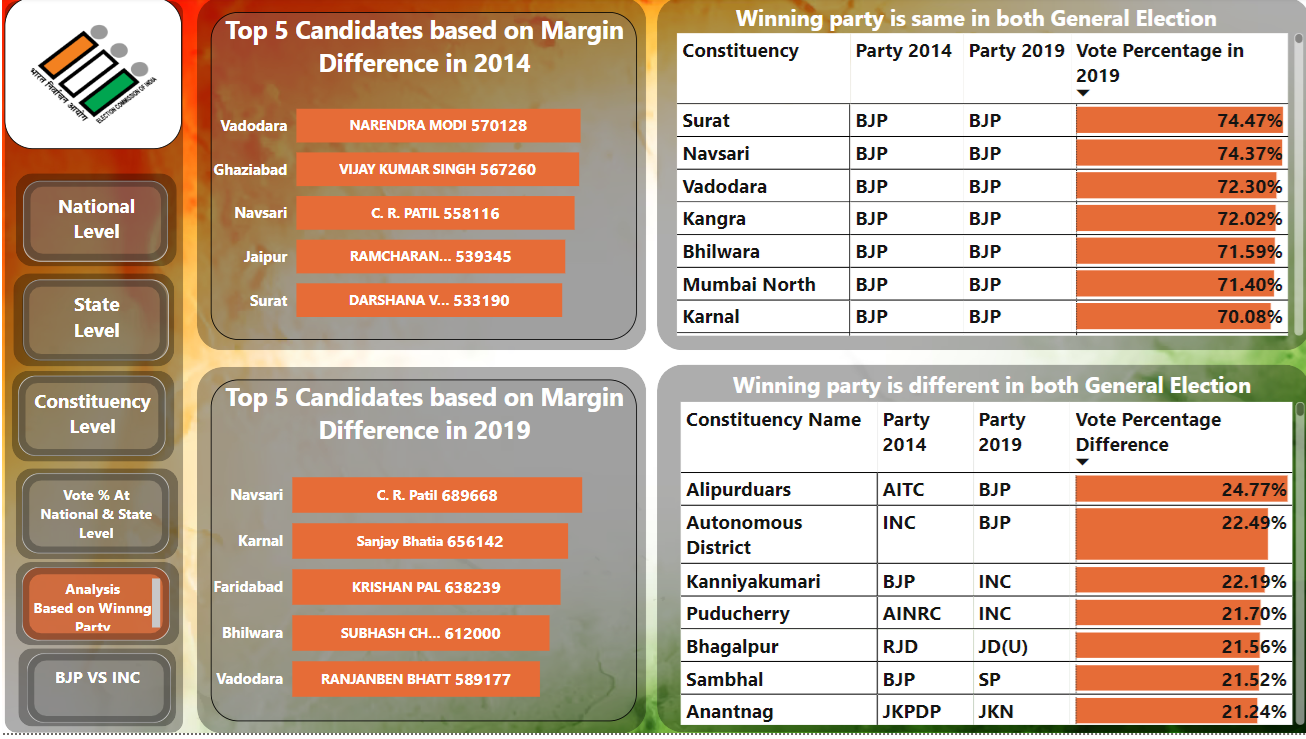

The page's visual inventory and layout, read from the dashboard file:
{"tool":"powerbi","page":{"name":"Additional Insights","canvas":[1280,720],"ordinal":10},"visuals":[{"type":"image","box":[0,0,1279.7,720.1],"z":0},{"type":"shape","box":[11.4,161,157.6,91.2],"z":0,"group":"g2"},{"type":"shape","box":[11.6,260,157.6,91.2],"z":0,"group":"g1"},{"type":"shape","box":[11.4,357,157.1,80],"z":0,"group":"g5"},{"type":"shape","box":[12.9,443,159,89],"z":0,"group":"g4"},{"type":"shape","box":[11.4,539,160,81.4],"z":0,"group":"g3"},{"type":"shape","box":[12.9,626,159,89],"z":0,"group":"g6"},{"type":"shape","title":"2014","box":[738.9,0,540.8,347],"z":1000},{"type":"textbox","box":[18.4,167.8,141.9,78.8],"z":1000,"group":"g2"},{"type":"textbox","box":[20.9,266.2,142.2,78.8],"z":1000,"group":"g1"},{"type":"textbox","box":[17.8,361.7,141.8,69.9],"z":1000,"group":"g5"},{"type":"textbox","box":[18.8,448.2,143.8,78.6],"z":1000,"group":"g4"},{"type":"textbox","box":[17.3,543.7,144.8,71.9],"z":1000,"group":"g3"},{"type":"textbox","box":[18.8,631.2,143.8,78.6],"z":1000,"group":"g6"},{"type":"actionButton","box":[19.3,166.8,141.7,79.5],"z":2000,"group":"g2"},{"type":"actionButton","box":[20.6,266.2,141.7,80],"z":2000,"group":"g1"},{"type":"shape","title":"2014","box":[738.9,360.1,540.8,360.1],"z":2000},{"type":"actionButton","box":[18.1,361.7,141.8,69.9],"z":2000,"group":"g5"},{"type":"actionButton","box":[18.8,448.1,143.8,78.6],"z":2000,"group":"g4"},{"type":"actionButton","box":[17.3,543.7,144.8,71.9],"z":2000,"group":"g3"},{"type":"actionButton","box":[18.8,631.1,143.8,78.6],"z":2000,"group":"g6"},{"type":"shape","box":[3,3.8,175,716.2],"z":4000},{"type":"shape","title":"2014","box":[184,0,540.8,347],"z":5000},{"type":"shape","title":"2014","box":[183.6,361.5,540.8,358.6],"z":6000},{"type":"scatterChart","title":"Correlation B/w Postal Votes & Voter Turn Out %","fields":{"X":["Key_measures.Voter Turnout ratio 2014"],"Y":["Sum(constituency_wise_results_2014_cleaned.postal_votes)"],"Series":["constituency_wise_results_2014_cleaned.pc_name"],"Category":["constituency_wise_results_2014_cleaned.pc_name"],"Size":["Sum(constituency_wise_results_2014_cleaned.postal_votes)"]},"box":[196.7,8.7,514.8,328.2],"z":7000},{"type":"scatterChart","title":"Correlation B/w Postal Votes & Voter Turn Out %","fields":{"X":["Key_measures.Voter Turnout ratio 2019"],"Y":["Sum(constituency_wise_results_2019.postal_votes)"],"Category":["constituency_wise_results_2019.state"],"Size":["Sum(constituency_wise_results_2019.postal_votes)"],"Series":["constituency_wise_results_2019.state"]},"box":[196.7,371.6,514.8,335.5],"z":8000},{"type":"image","box":[2.9,0,173.5,148.9],"z":9000},{"type":"group","id":"g1","title":"State Level","box":[11.6,260,157.6,91.1],"z":10000},{"type":"group","id":"g2","title":"National Button","box":[11.4,161,157.1,91.4],"z":11000},{"type":"group","id":"g3","title":"Winning Party & Candidate Margin","box":[11.4,539,160,81.4],"z":12000},{"type":"group","id":"g4","title":"Vote % At National & State Level","box":[12.9,443,158.6,88.6],"z":13000},{"type":"group","id":"g5","title":"Based on Votes","box":[11.4,357,157.1,80],"z":14000},{"type":"group","id":"g6","title":"Vote % At National & State Level","box":[12.9,626,158.6,88.6],"z":15000},{"type":"scatterChart","title":"Correlation B/w GPD of State and Voter Turnout %","fields":{"X":["Key_measures.Voter Turnout ratio 2019"],"Size":["Sum(constituency_wise_results_2019.GPD_STATE_INR)1"],"Series":["constituency_wise_results_2019.state"],"Y":["constituency_wise_results_2019.GPD_STATE_INR"]},"box":[754.8,371.6,516,335.5],"z":15500},{"type":"scatterChart","title":"Correlation B/w Literacy Rate of State and Voter Turnout %","fields":{"X":["Key_measures.Voter Turnout ratio 2019"],"Series":["constituency_wise_results_2019.state"],"Y":["constituency_wise_results_2019.Literacy Rate Statewise"],"Size":["Sum(constituency_wise_results_2019.Literacy Rate Statewise)1"]},"box":[754.8,8.7,516.2,328.2],"z":16000}]}

Visuals, with their boxes in screenshot pixels (x1, y1, x2, y2), scaled from the page's 1280x720 canvas onto the 1306x739 screenshot:
image: detection(0, 0, 1305, 738)
shape: detection(12, 165, 172, 259)
shape: detection(12, 267, 173, 360)
shape: detection(12, 366, 172, 449)
shape: detection(13, 455, 175, 546)
shape: detection(12, 553, 175, 637)
shape: detection(13, 643, 175, 734)
"2014" shape: detection(754, 0, 1305, 356)
textbox: detection(19, 172, 164, 253)
textbox: detection(21, 273, 166, 354)
textbox: detection(18, 371, 163, 443)
textbox: detection(19, 460, 166, 541)
textbox: detection(18, 558, 165, 632)
textbox: detection(19, 648, 166, 729)
actionButton: detection(20, 171, 164, 253)
actionButton: detection(21, 273, 166, 355)
"2014" shape: detection(754, 370, 1305, 738)
actionButton: detection(18, 371, 163, 443)
actionButton: detection(19, 460, 166, 541)
actionButton: detection(18, 558, 165, 632)
actionButton: detection(19, 648, 166, 728)
shape: detection(3, 4, 182, 738)
"2014" shape: detection(188, 0, 740, 356)
"2014" shape: detection(187, 371, 739, 738)
"Correlation B/w Postal Votes & Voter Turn Out %" scatterChart: detection(201, 9, 726, 346)
"Correlation B/w Postal Votes & Voter Turn Out %" scatterChart: detection(201, 381, 726, 726)
image: detection(3, 0, 180, 153)
"State Level" group: detection(12, 267, 173, 360)
"National Button" group: detection(12, 165, 172, 259)
"Winning Party & Candidate Margin" group: detection(12, 553, 175, 637)
"Vote % At National & State Level" group: detection(13, 455, 175, 546)
"Based on Votes" group: detection(12, 366, 172, 449)
"Vote % At National & State Level" group: detection(13, 643, 175, 733)
"Correlation B/w GPD of State and Voter Turnout %" scatterChart: detection(770, 381, 1297, 726)
"Correlation B/w Literacy Rate of State and Voter Turnout %" scatterChart: detection(770, 9, 1297, 346)
